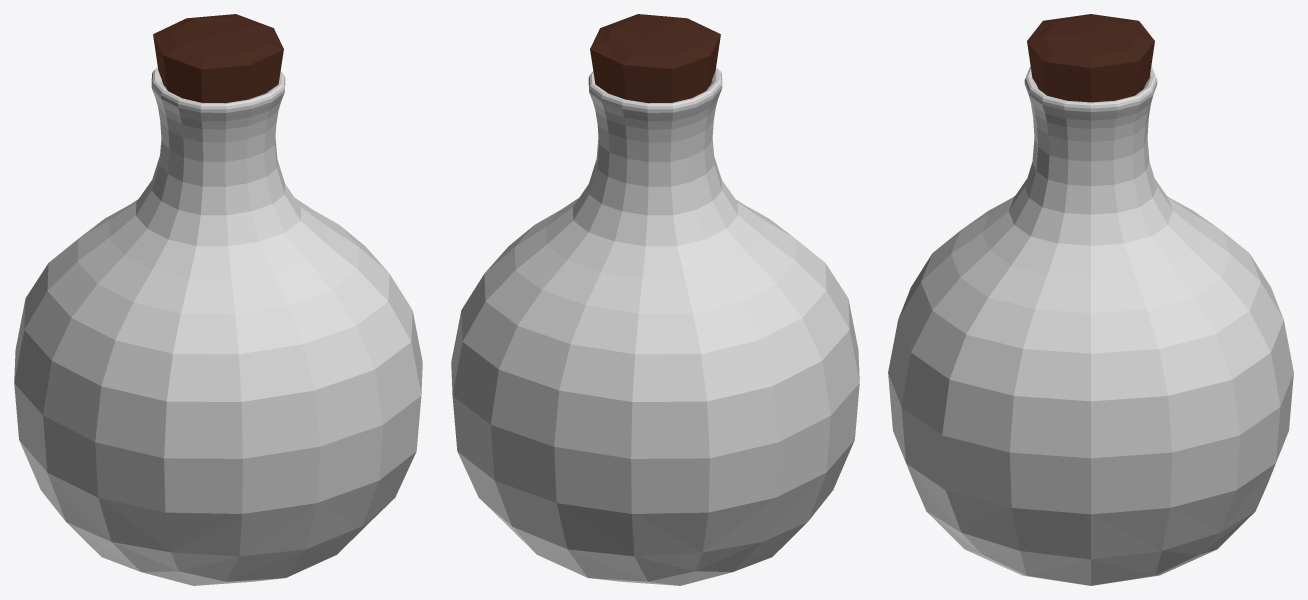
Rendered from potion1_filled.glb.
3 views of the same model, side by side, from view 1: azimuth 30°, elevation 25°; view 2: azimuth 150°, elevation 25°; view 3: azimuth 270°, elevation 25° (orthographic).
Visible parts, largest first — view 1: Potion1_Filled; view 2: Potion1_Filled; view 3: Potion1_Filled.
Part boxes in pixels (<box>): Potion1_Filled: <box>14,14,422,585</box>; Potion1_Filled: <box>451,14,859,585</box>; Potion1_Filled: <box>888,14,1293,585</box>.
Size of the model in its own units: 66.85 by 96.29 by 66.85.
